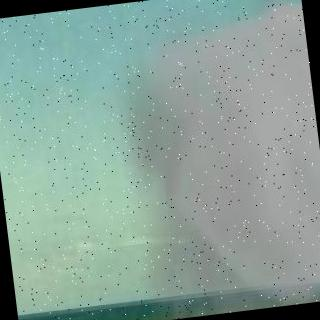smoke: (104, 1, 320, 320)
